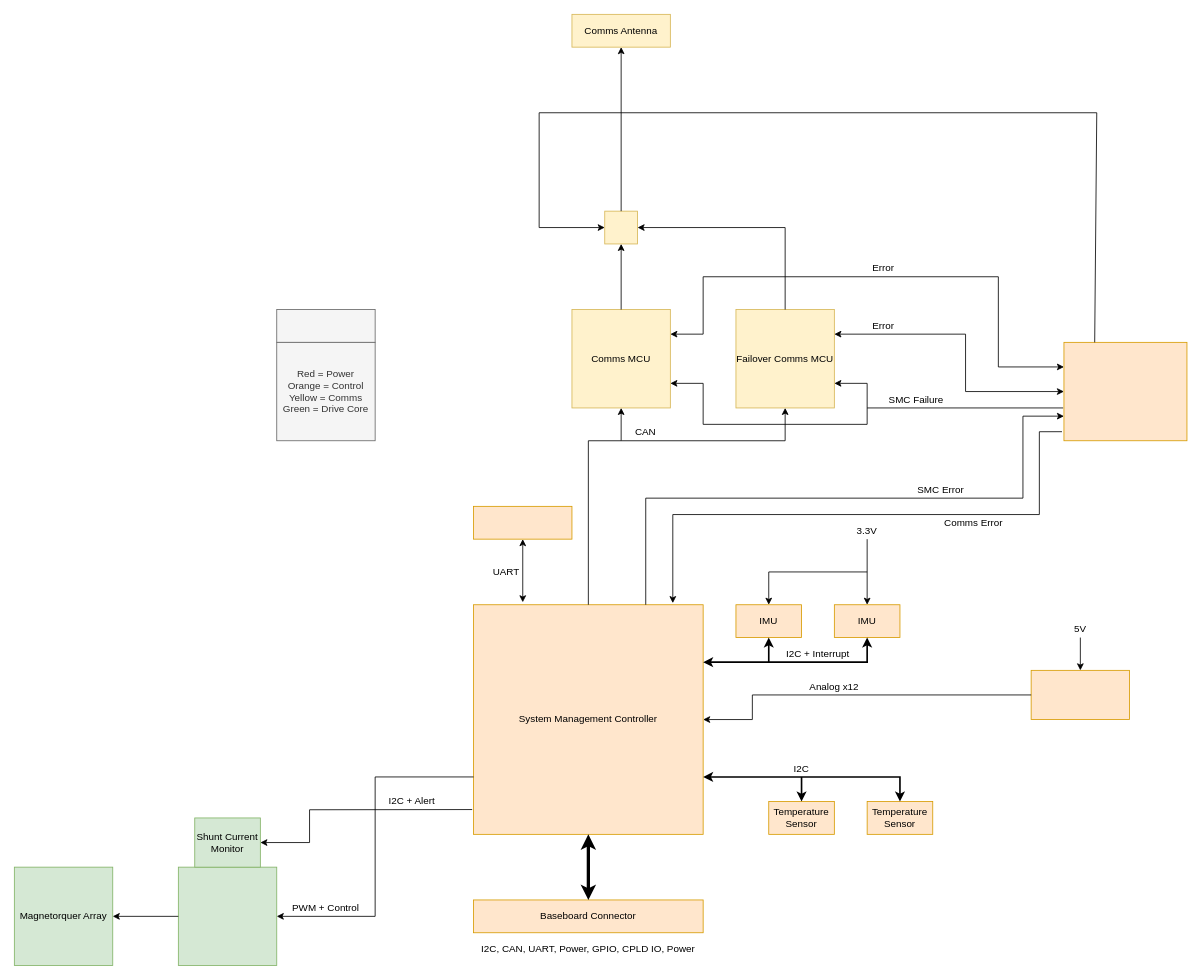
This 1201x980 diagram has some shape labels left out. Here are the shapes that lost their labels. From the top down, the box of each, then its label:
(604, 210, 638, 244): RF MUX
(276, 309, 375, 342): Legend
(1063, 342, 1187, 441): CPLD
(473, 506, 572, 539): Serial Console
(1030, 670, 1130, 720): Sun Sensor ADC Headers
(178, 866, 277, 966): H Bridge
